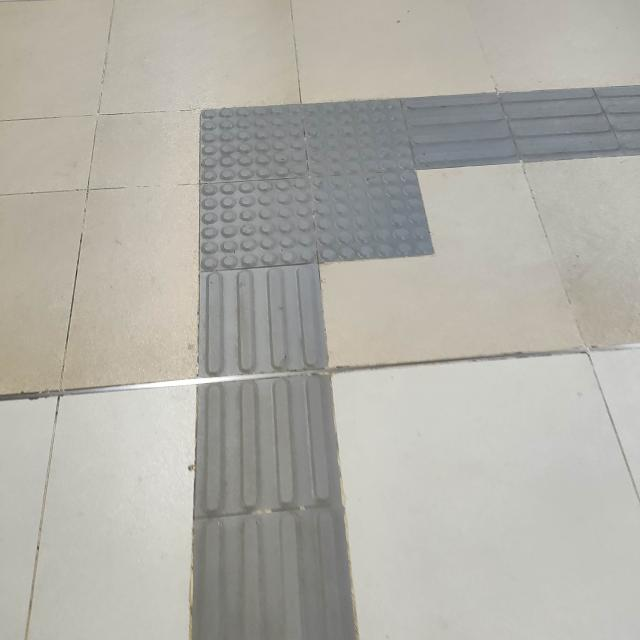kanan: (116, 52, 640, 342)
